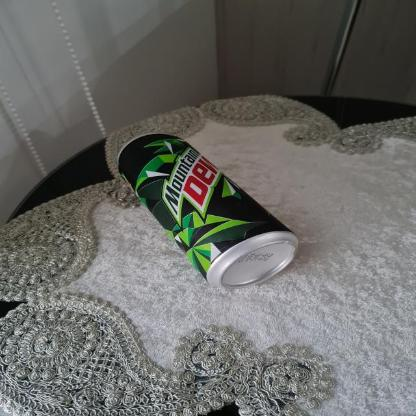Can: (115, 134, 303, 292)
